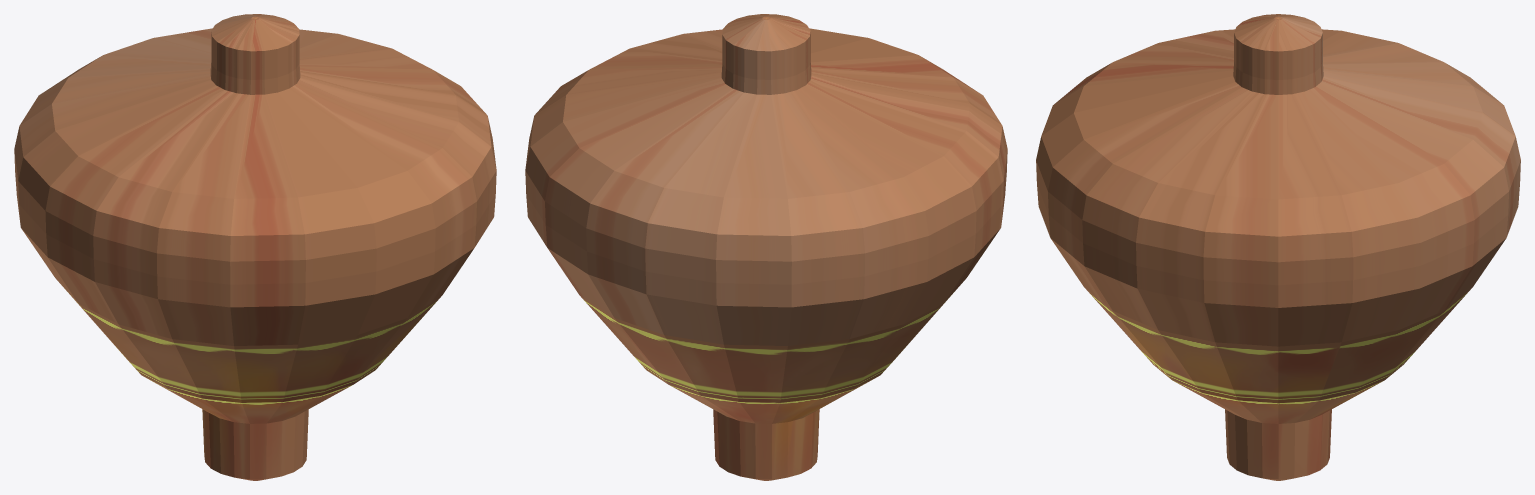
3 renders of one model, left to right at view 1: azimuth 30°, elevation 25°; view 2: azimuth 150°, elevation 25°; view 3: azimuth 270°, elevation 25°, orthographic.
Visible parts, largest first — view 1: pCylinder1; view 2: pCylinder1; view 3: pCylinder1.
Boxes of the visible parts, x1,y1,x2,y2 form: pCylinder1: (14, 14, 496, 480); pCylinder1: (525, 14, 1007, 480); pCylinder1: (1036, 14, 1520, 480).
Bounding box in the file's own units: 3.69 × 3.84 × 3.69.
Materials: 1 (1 with a texture image).
